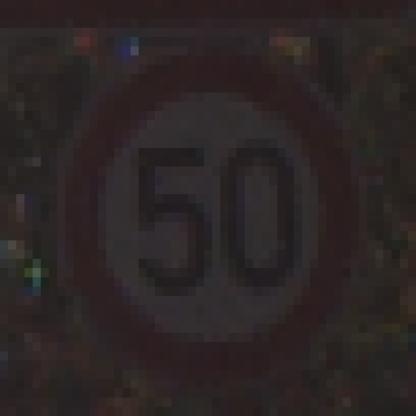Speed Limit 50: (67, 55, 352, 380)
